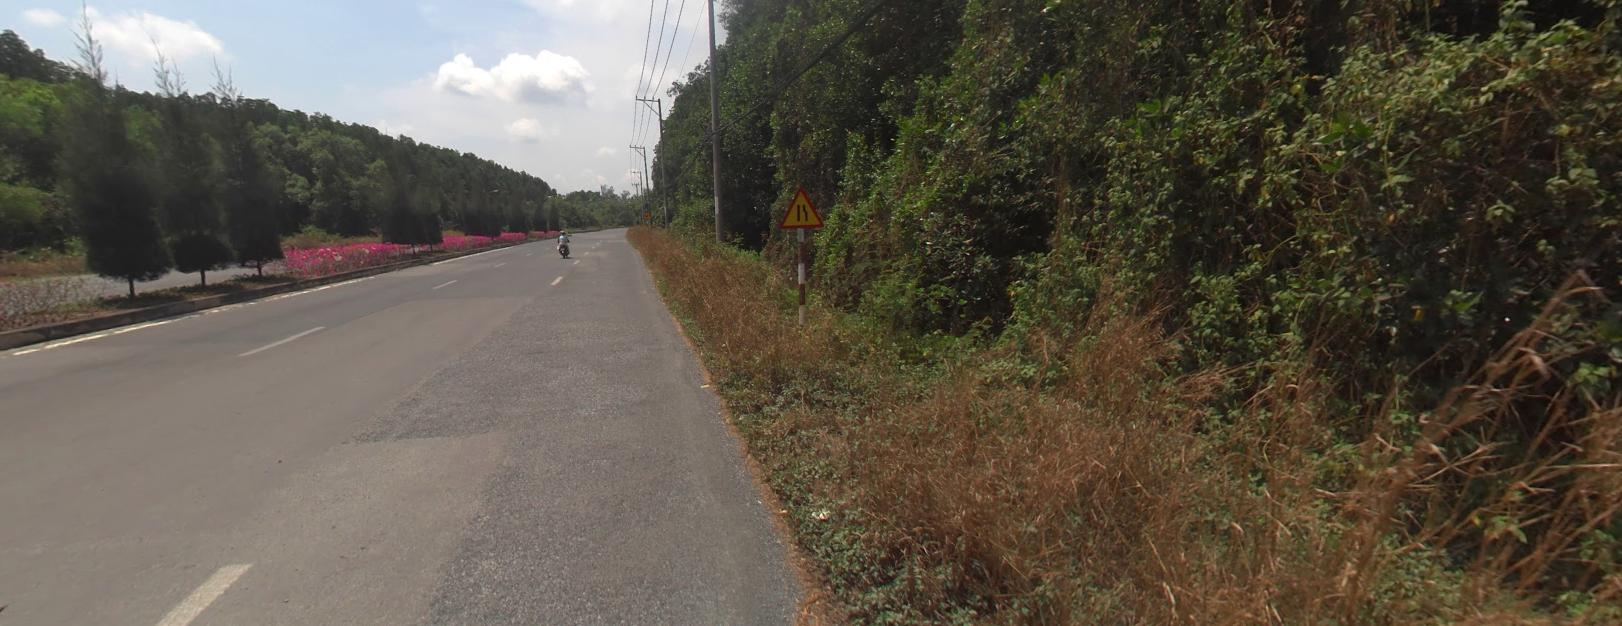Nguy hiem: (777, 183, 825, 226), (641, 209, 651, 218)
